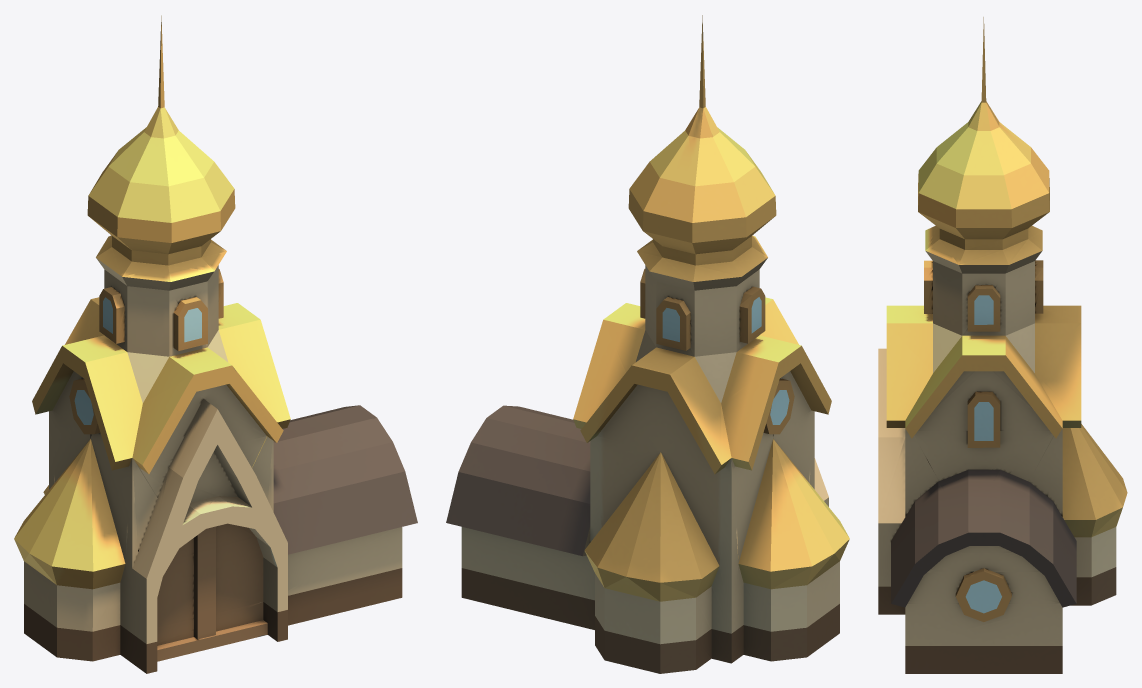
Rendered from Temple.glb.
3 renders of one model, left to right at view 1: azimuth 30°, elevation 25°; view 2: azimuth 150°, elevation 25°; view 3: azimuth 270°, elevation 25°, orthographic. The views are drawn at different scales.
Parts seen in each view (by area): view 1: church; view 2: church; view 3: church.
Part boxes in pixels (x1=…): church: x1=14, y1=15, x2=417, y2=673; church: x1=446, y1=15, x2=849, y2=673; church: x1=878, y1=17, x2=1127, y2=673.
Bounding box in the file's own units: 1.5 × 2.55 × 1.01.
Materials: 1 (1 with a texture image).
